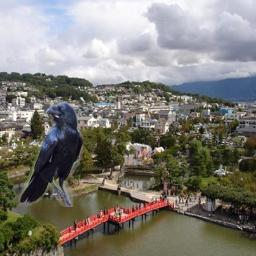Crow: (18, 101, 83, 207)
